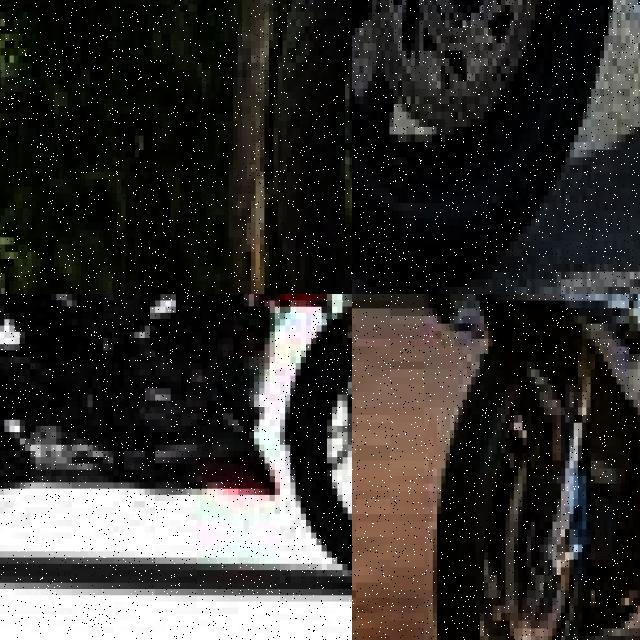bike: (0, 294, 352, 614), (352, 0, 640, 294), (428, 294, 640, 640), (255, 0, 352, 294)
